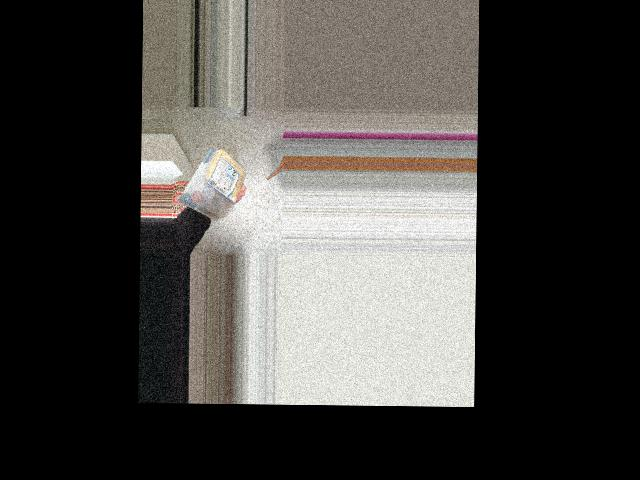cheese: (174, 143, 251, 224)
